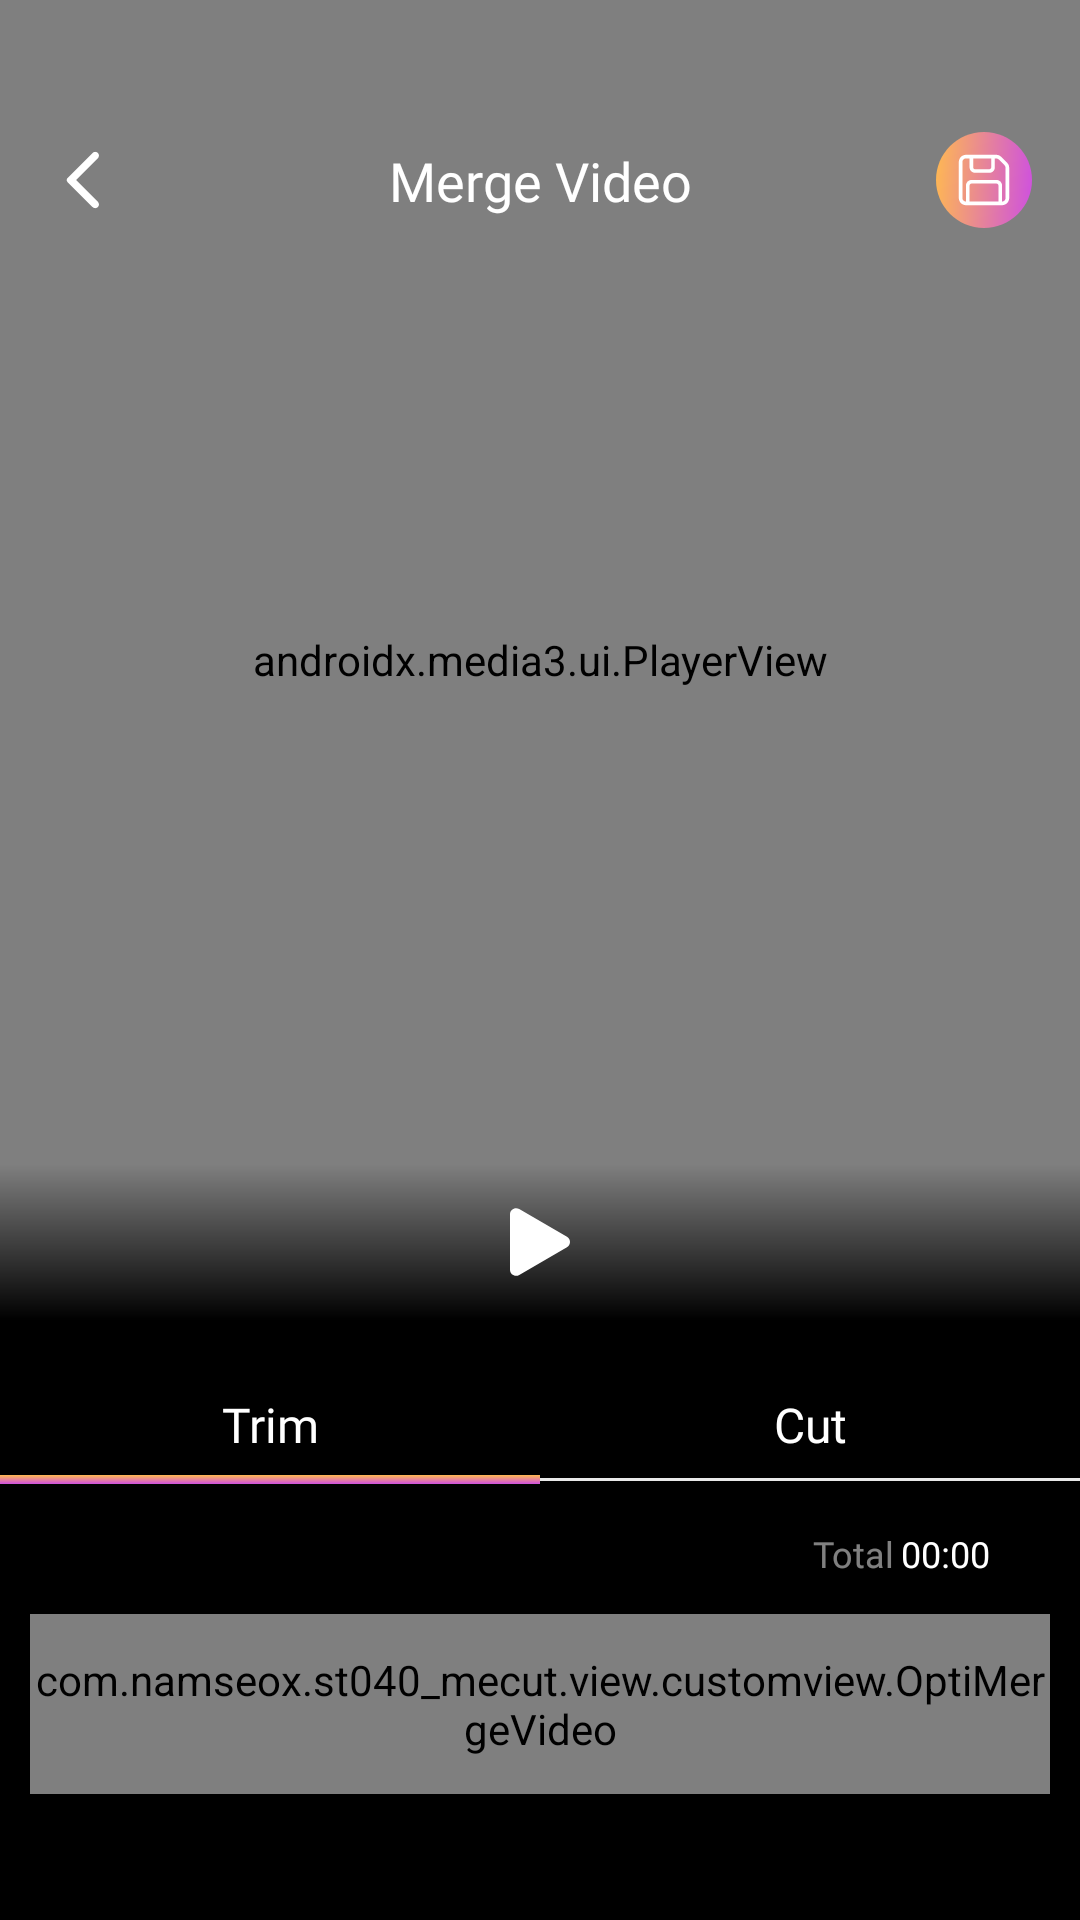

Icons on this 1080×1920 Android screen, each with its box as (x1, y1, x2, y2):
back: (66, 152, 99, 208)
save: (936, 132, 1032, 228)
